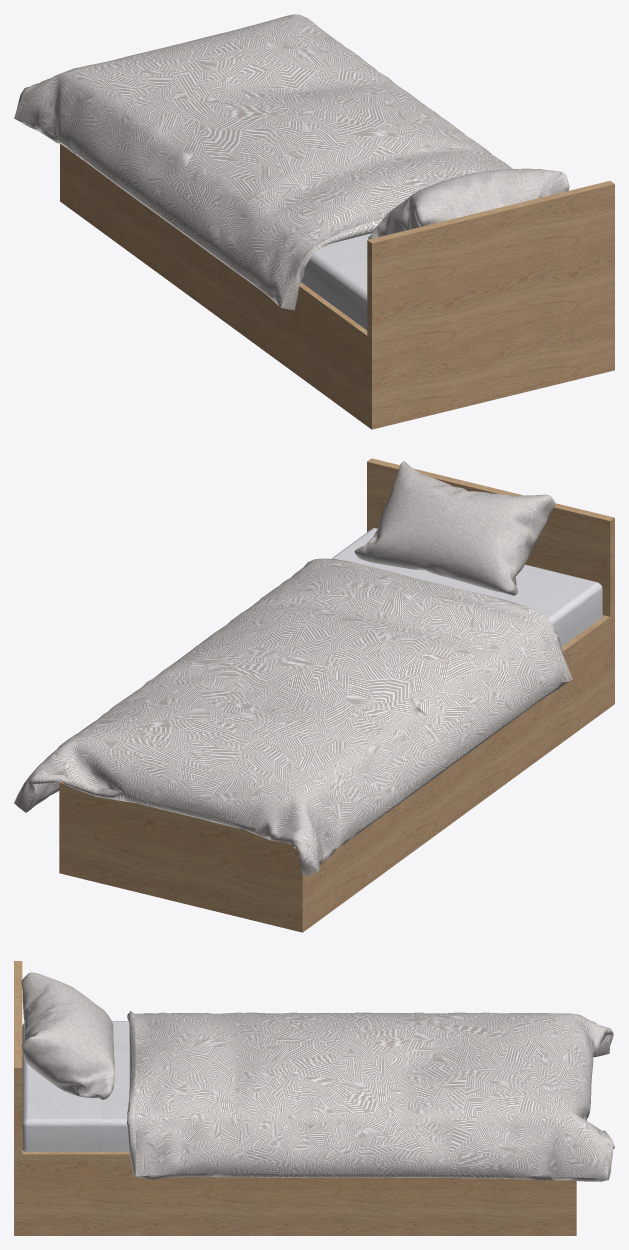
File: Bed_small.FBX
3 renders of one model, top to bottom at view 1: azimuth 30°, elevation 25°; view 2: azimuth 150°, elevation 25°; view 3: azimuth 270°, elevation 25°, orthographic. The views are drawn at different scales.
Parts seen in each view (by area): view 1: Duvet_small, Small_bed, Pillow; view 2: Duvet_small, Small_bed, Pillow; view 3: Duvet_small, Small_bed, Pillow.
Part boxes in pixels (x1,y1,x2,y2): Duvet_small: (14, 14, 512, 310); Small_bed: (60, 144, 614, 429); Pillow: (368, 168, 569, 239); Duvet_small: (14, 558, 572, 876); Small_bed: (59, 458, 614, 932); Pillow: (354, 461, 555, 595); Duvet_small: (127, 1011, 614, 1181); Small_bed: (14, 961, 576, 1235); Pillow: (21, 972, 114, 1099).
Size of the model in its own units: 44 by 28.1 by 84.09.
